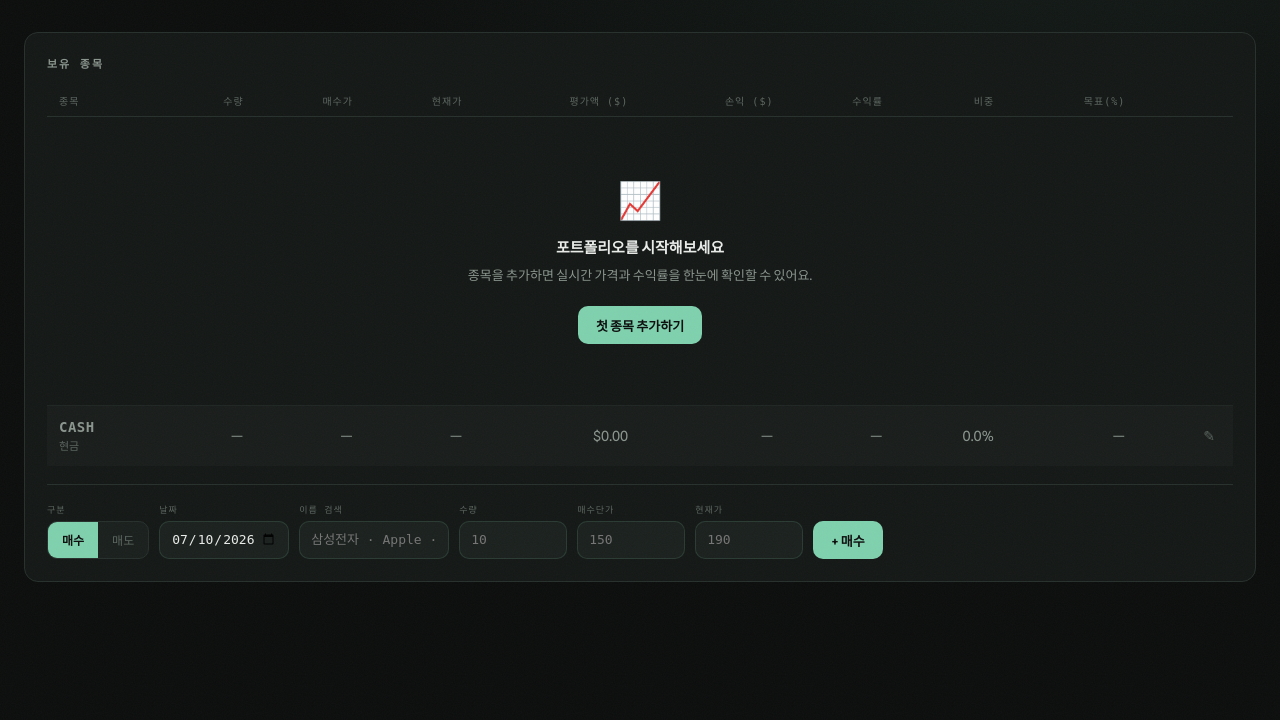
Scenario: HoldingsTable › USD: 드롭다운 선택 시 이름 자동 입력
The width and height of the screenshot is (1280, 720).
Type "apple" into the field with placeholder "삼성전자 · Apple · AAPL · 005930".
click(374, 540); type("apple")  # box [299,521,449,559]
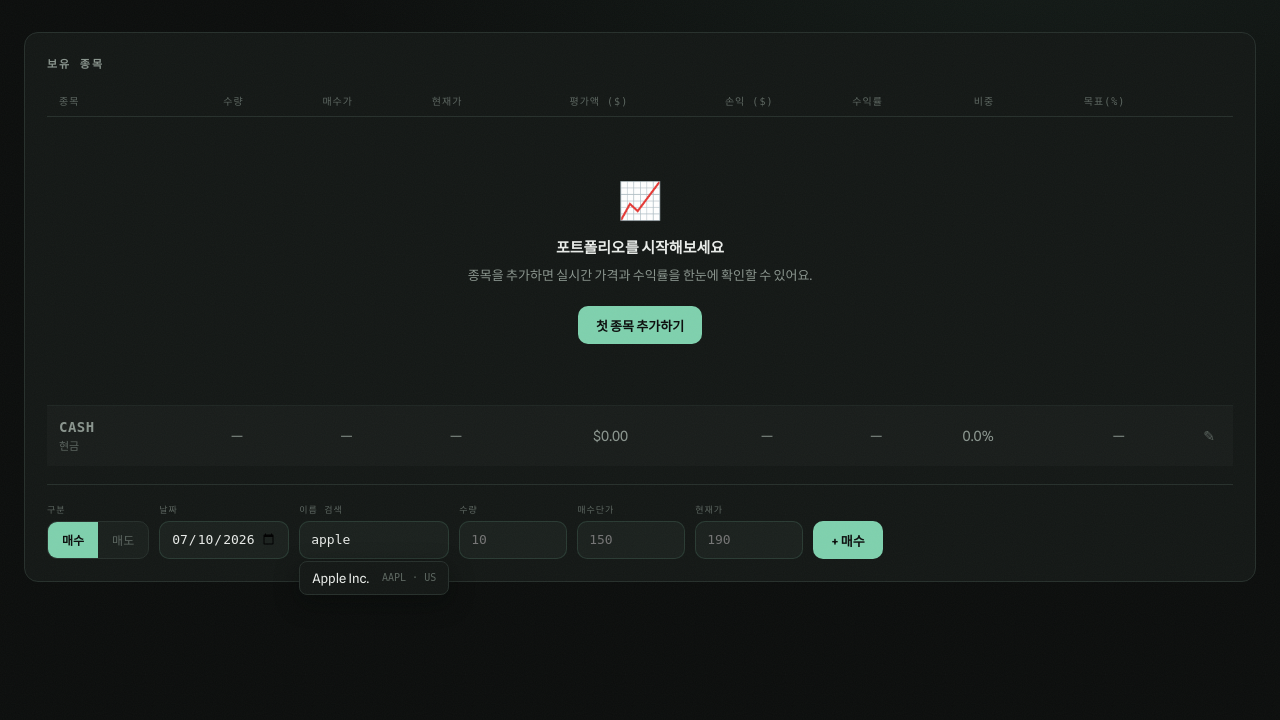
expect the text "Apple Inc." is shown: met
Click the text "Apple Inc.".
click(341, 578)  # box [312,570,369,586]
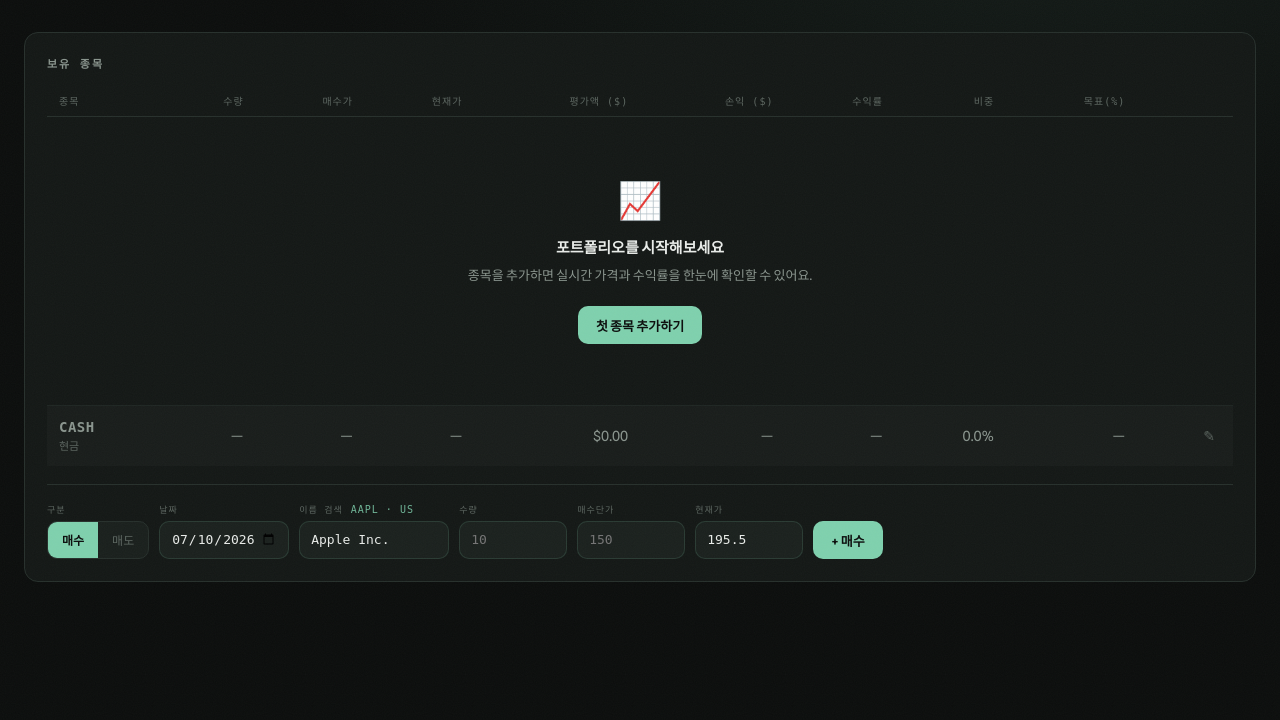
expect the field with placeholder "삼성전자 · Apple · AAPL · 005930" holds "Apple Inc.": met, box [299,521,449,559]
